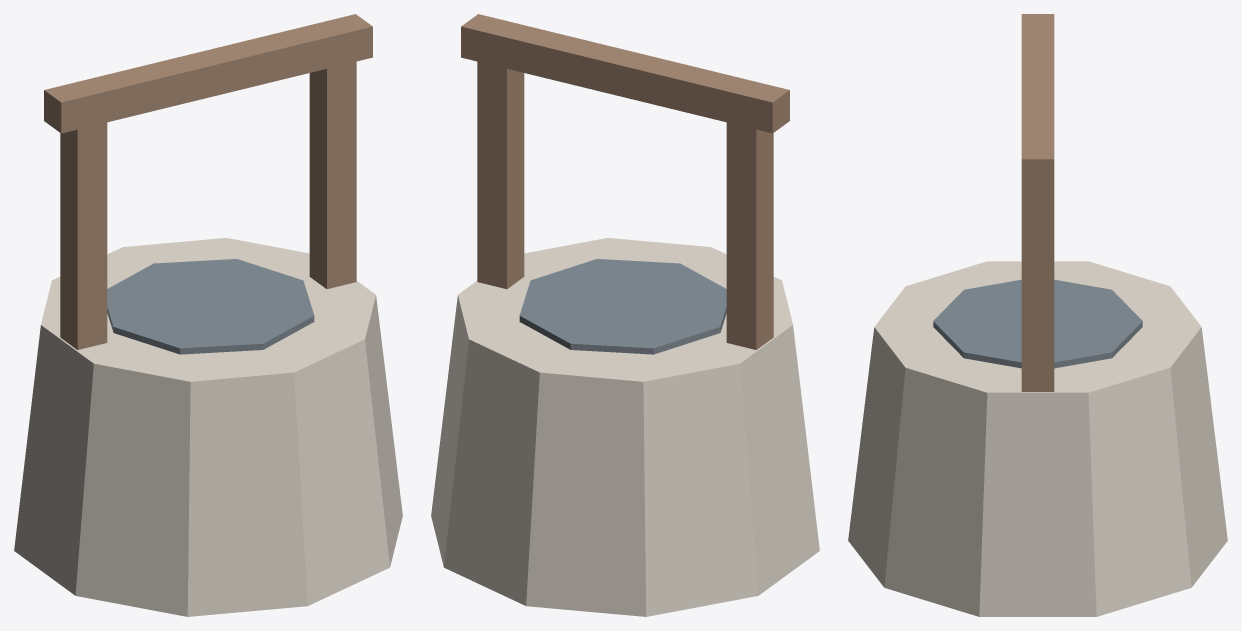
File: well.glb
3 views of the same model, side by side, from view 1: azimuth 30°, elevation 25°; view 2: azimuth 150°, elevation 25°; view 3: azimuth 270°, elevation 25° (orthographic). The views are drawn at different scales.
Parts seen in each view (by area): view 1: cottage; view 2: cottage; view 3: cottage.
Boxes of the visible parts, x1,y1,x2,y2 form: cottage: (14,14,402,616); cottage: (431,14,819,616); cottage: (848,14,1227,616).
Size of the model in its own units: 0.685 by 0.95 by 0.7203.
